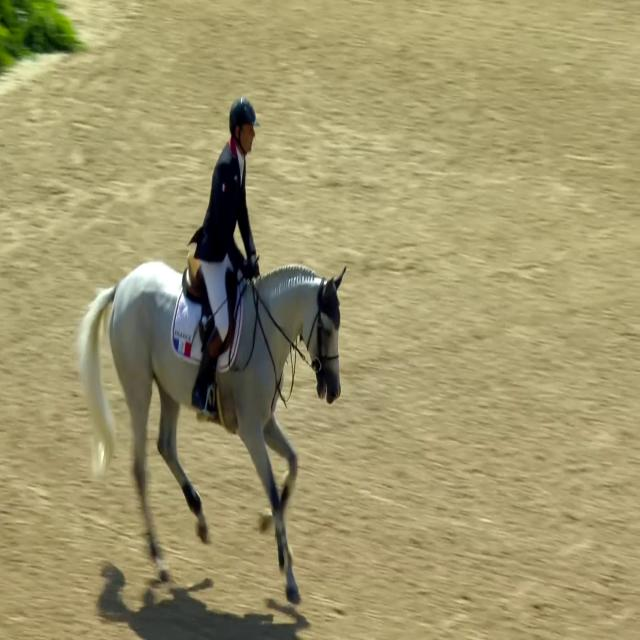Horse Rider: (190, 38, 266, 423)
Horse Running: (71, 198, 358, 625)
